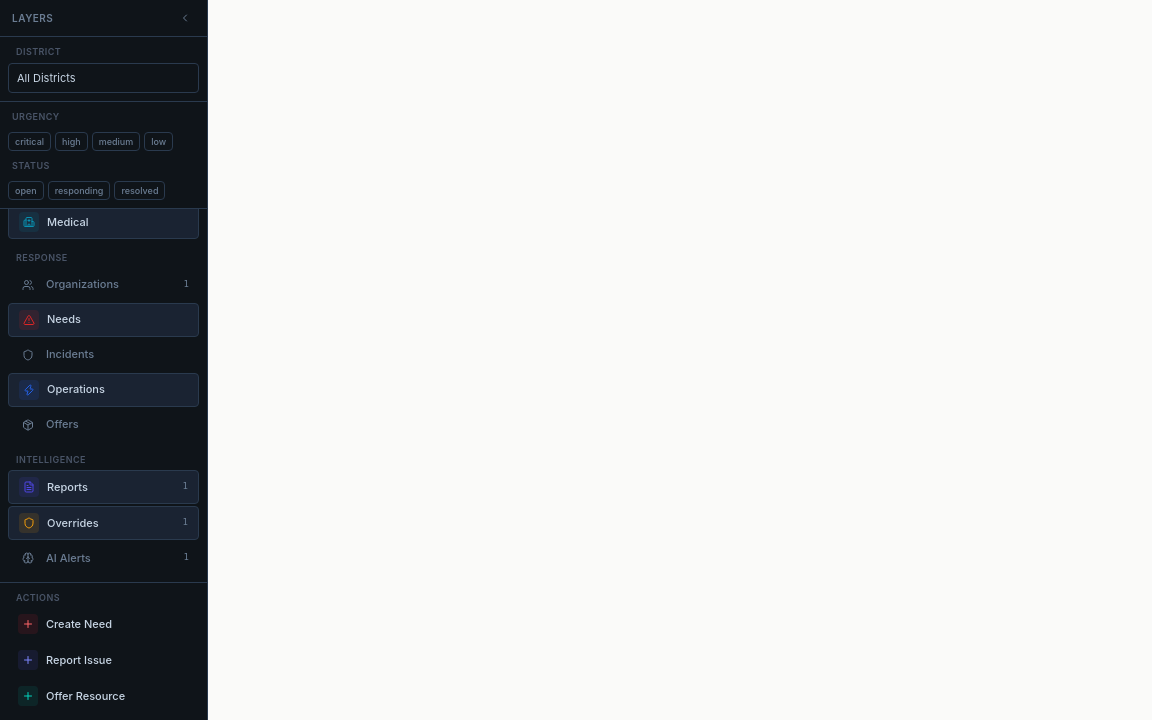
Scenario: ReliefOS Operational Map Controls UI/UX Verification › 6. AI Alerts toggle fetches analysis and opens AI Coordinator panel
(page scrolled)
Click the button with test id "layer-aiAlerts".
click(104, 558)  # box [8,542,199,574]
Wait 500 ms
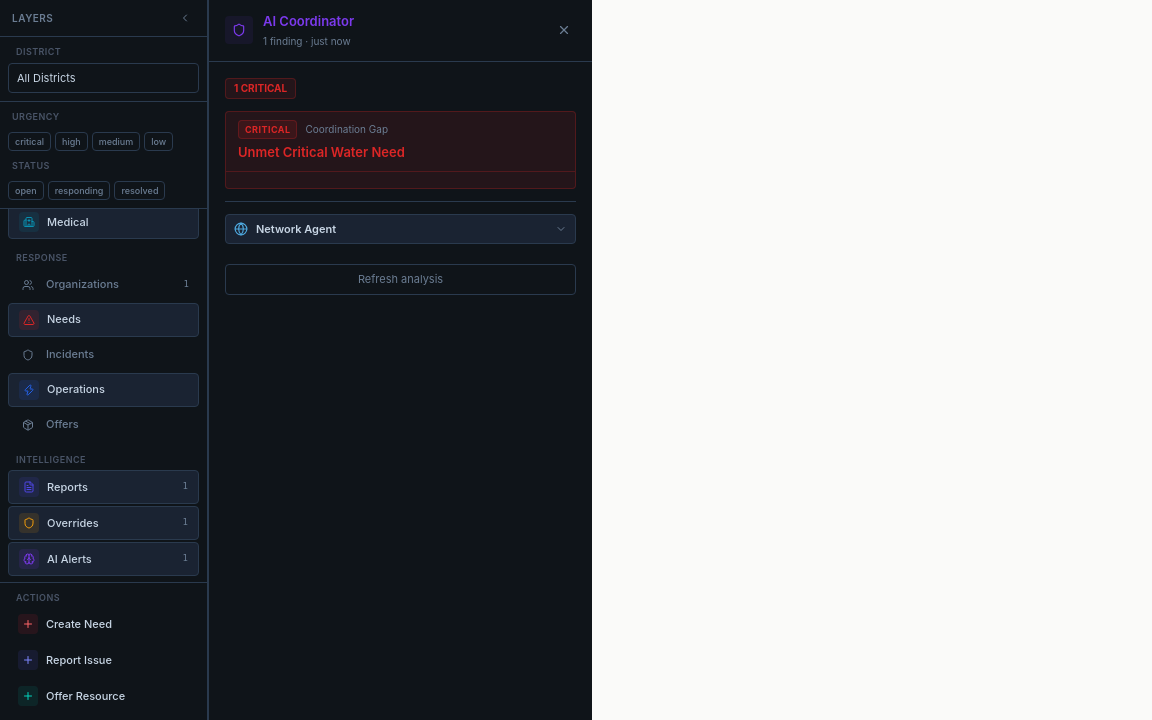
Check: the heading "AI Coordinator" is shown, box [263,12,354,32]
Check: the text "Unmet Critical Water Need" is shown, box [238,144,405,160]
